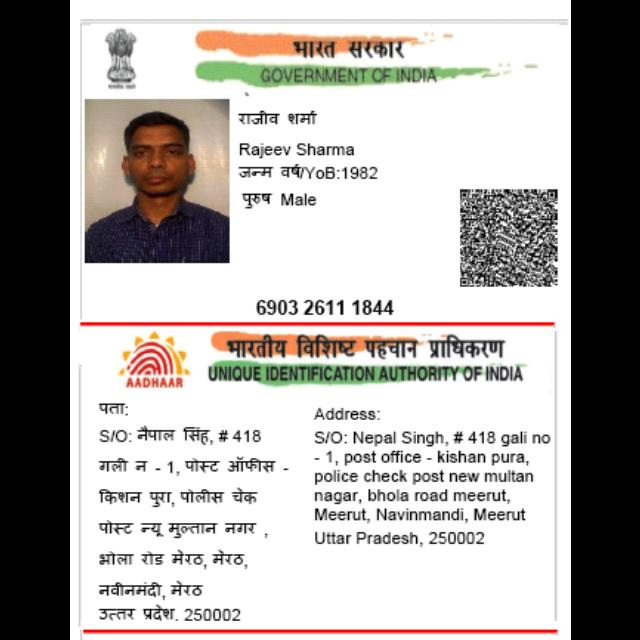aadhaar: (73, 14, 564, 330)
